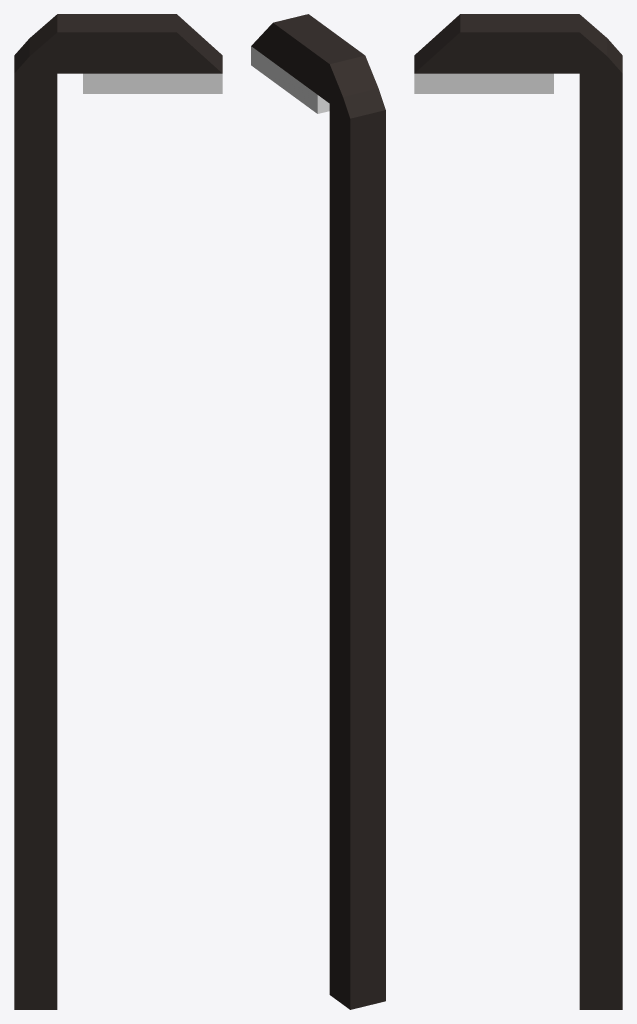
The model's file is blend_lamp.glb.
3 views of the same model, side by side, from view 1: azimuth 90°, elevation 25°; view 2: azimuth 210°, elevation 25°; view 3: azimuth 270°, elevation 25° (orthographic). The views are drawn at different scales.
Parts seen in each view (by area): view 1: Lamp; view 2: Lamp; view 3: Lamp.
Boxes of the visible parts, x1,y1,x2,y2 form: Lamp: (14, 14, 222, 1009); Lamp: (251, 14, 385, 1009); Lamp: (414, 14, 622, 1009).
Bounding box in the file's own units: 0.2 × 5 × 0.9657.
Materials: 1 (1 with a texture image).
